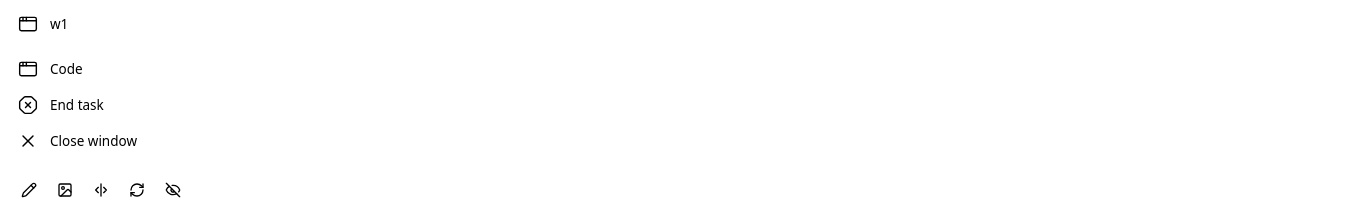
Test case: AppMenuPanel › asks before ending a task, and only then ends it
Later steps or results of the test are not shown.
Click the button "End task".
click(77, 105)  # box [6,87,1360,123]
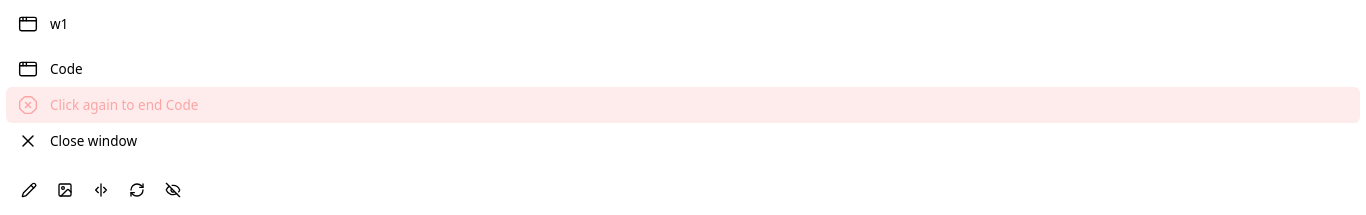
Expected: the button named "End task" reads "Click again to end Code", [6,87,1360,123]
